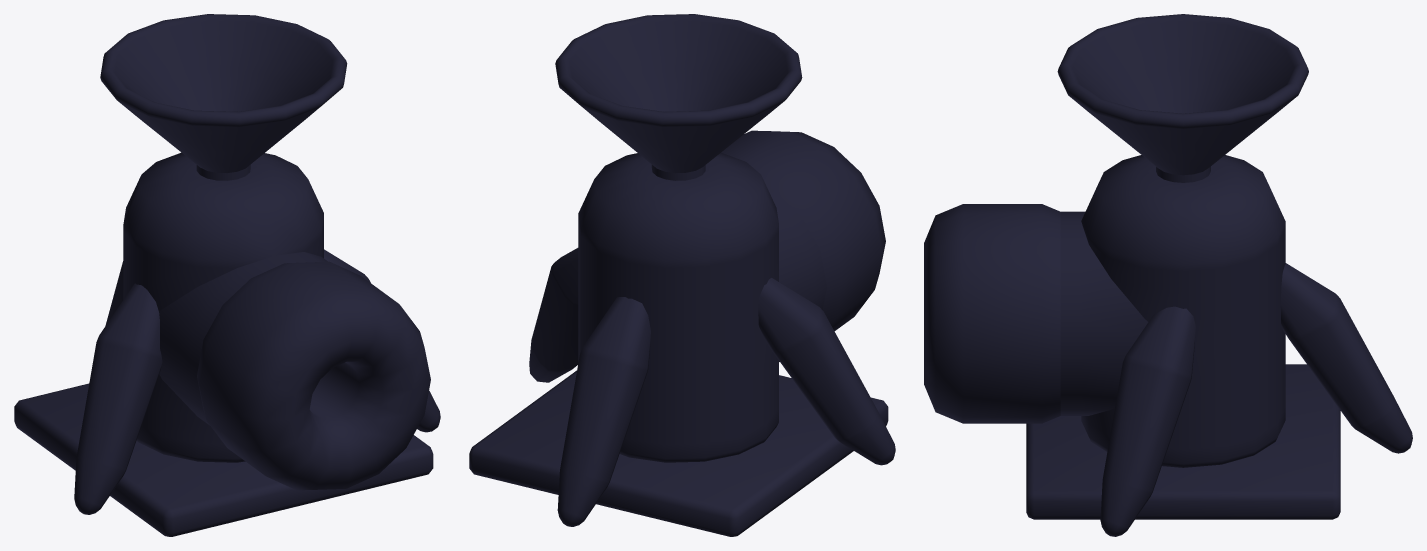
Rendered from Constructing_Portal_Reciver.fbx.
3 renders of one model, left to right at view 1: azimuth 30°, elevation 25°; view 2: azimuth 150°, elevation 25°; view 3: azimuth 270°, elevation 25°, orthographic.
Parts seen in each view (by area): view 1: Stand_Base_Small001; view 2: Stand_Base_Small001; view 3: Stand_Base_Small001.
Part boxes in pixels (bbox=[...]): Stand_Base_Small001: bbox=[14, 14, 440, 536]; Stand_Base_Small001: bbox=[469, 14, 895, 536]; Stand_Base_Small001: bbox=[924, 14, 1412, 536].
Size of the model in its own units: 135 by 138 by 156.
